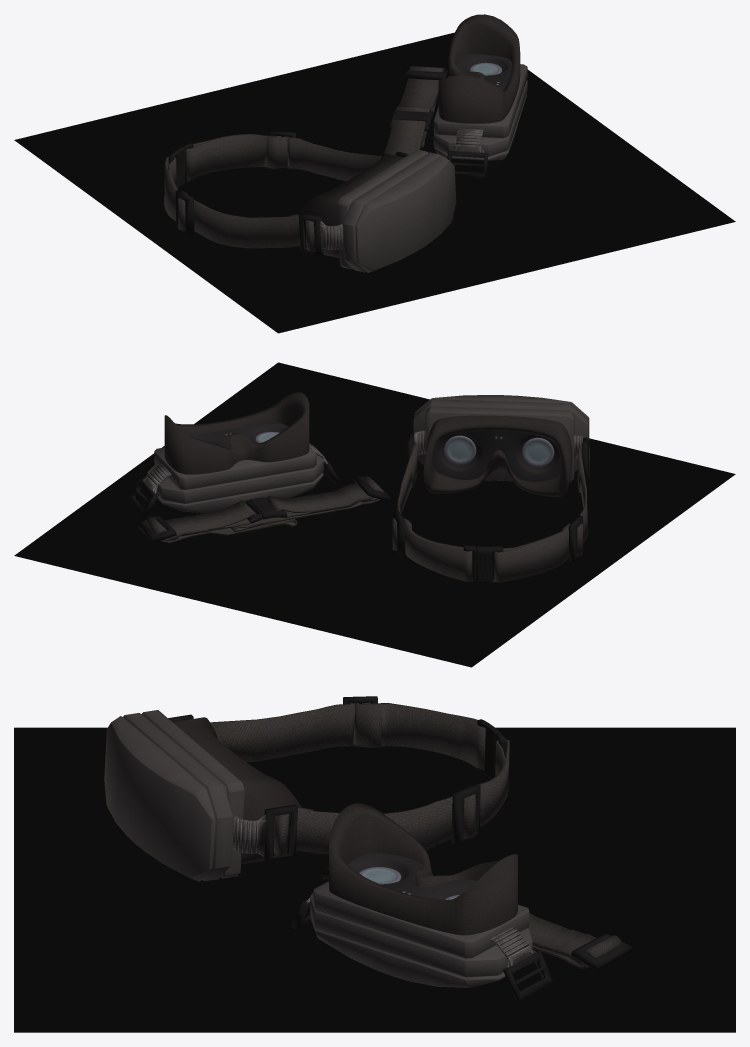
Rendered from vr_helmet.glb.
3 renders of one model, top to bottom at view 1: azimuth 30°, elevation 25°; view 2: azimuth 150°, elevation 25°; view 3: azimuth 270°, elevation 25°, orthographic. The views are drawn at different scales.
Parts seen in each view (by area): view 1: Plane.030, Plane.021, Plane.031; view 2: Plane.030, Plane.021, Plane.031; view 3: Plane.030, Plane.021, Plane.031.
Part boxes in pixels (x1,y1,x2,y2): Plane.030: (14,32,735,333); Plane.021: (164,130,456,272); Plane.031: (379,14,527,178); Plane.030: (14,362,735,667); Plane.021: (392,395,589,583); Plane.031: (128,392,390,543); Plane.030: (14,727,735,1032); Plane.021: (104,696,509,881); Plane.031: (290,803,631,1001).
Size of the model in its own units: 272 by 53 by 272.
Materials: 2 (1 with a texture image).
